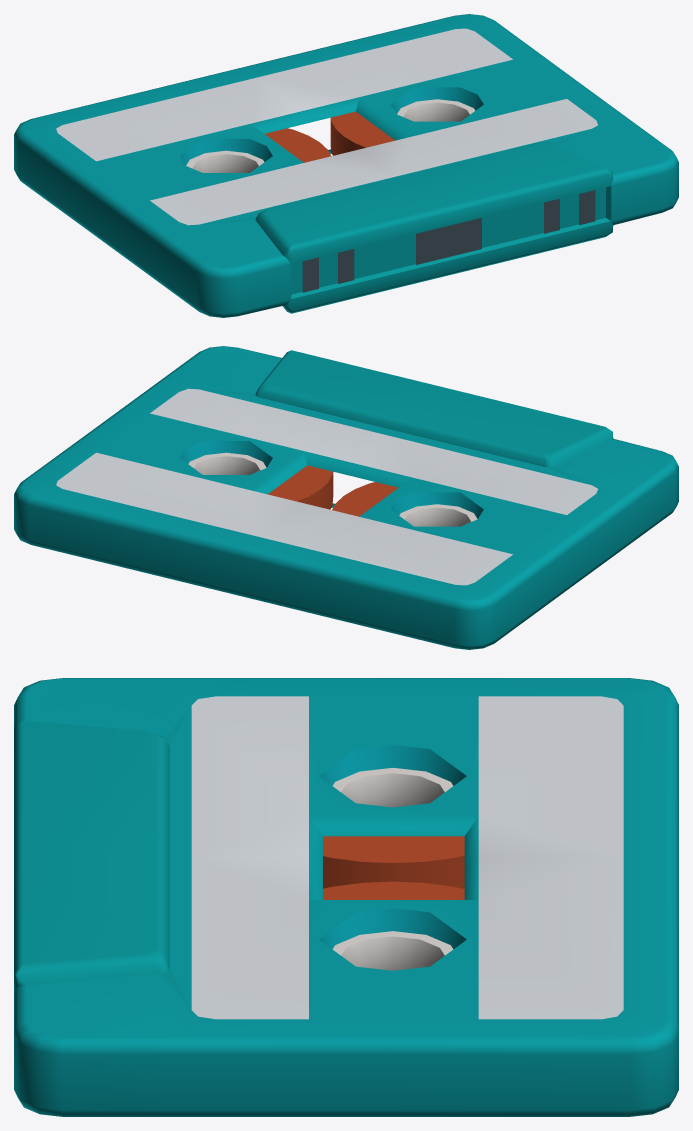
Rendered from Audio_09.glb.
3 views of the same model, one above another, from view 1: azimuth 30°, elevation 25°; view 2: azimuth 150°, elevation 25°; view 3: azimuth 270°, elevation 25° (orthographic). The views are drawn at different scales.
Visible parts, largest first — view 1: Audio_09; view 2: Audio_09; view 3: Audio_09.
Boxes of the visible parts, <box> form: Audio_09: <box>14,14,678,317</box>; Audio_09: <box>14,346,678,649</box>; Audio_09: <box>14,678,678,1116</box>.
Size of the model in its own units: 0.1 by 0.0139 by 0.076.
1 material, 1 textured.
